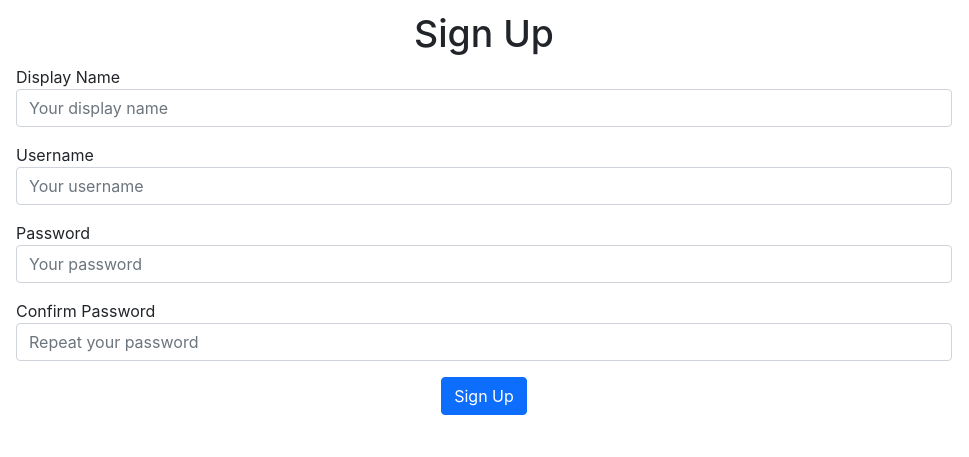
User Sign Up Page › Interactions › displays validation error for displayName when error is received for the field
Type "my-display-name" into the field with placeholder "Your display name" at (484, 108), box [16,89,952,127]
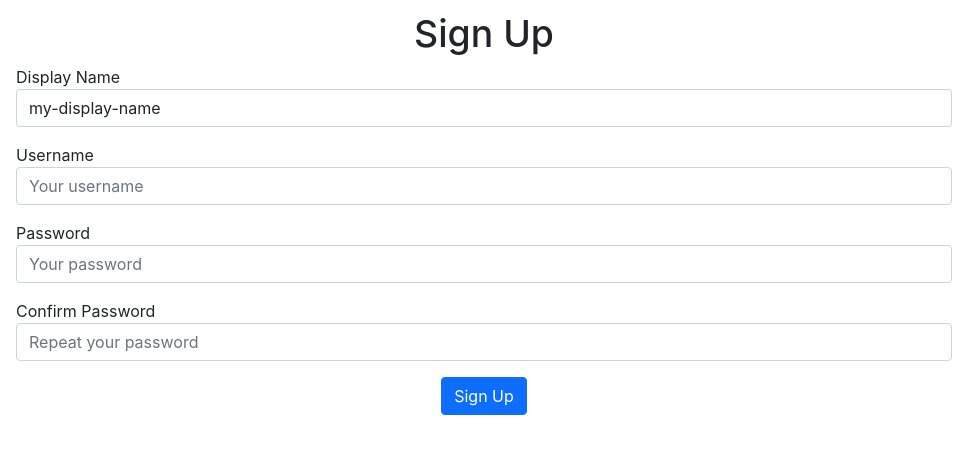
Type "my-username" into the field with placeholder "Your username" at (484, 186), box [16,167,952,205]
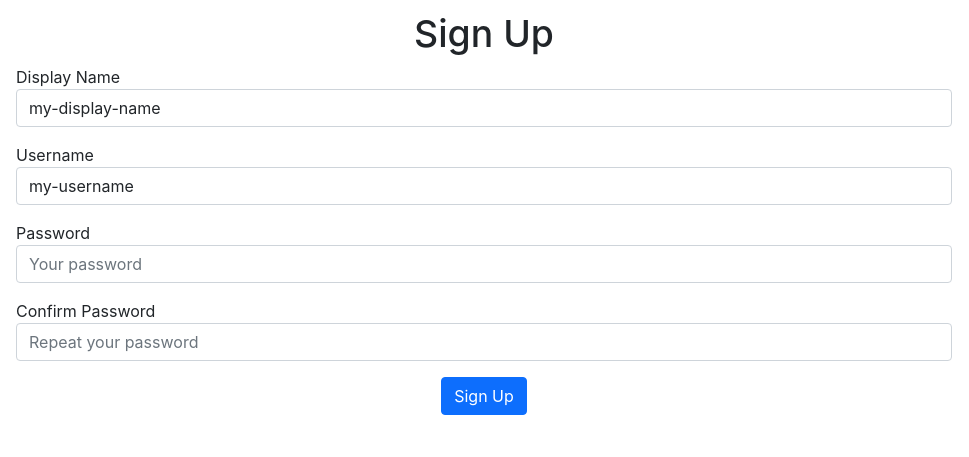
Type "P4ssword" into the password field with placeholder "Your password" at (484, 264), box [16,245,952,283]
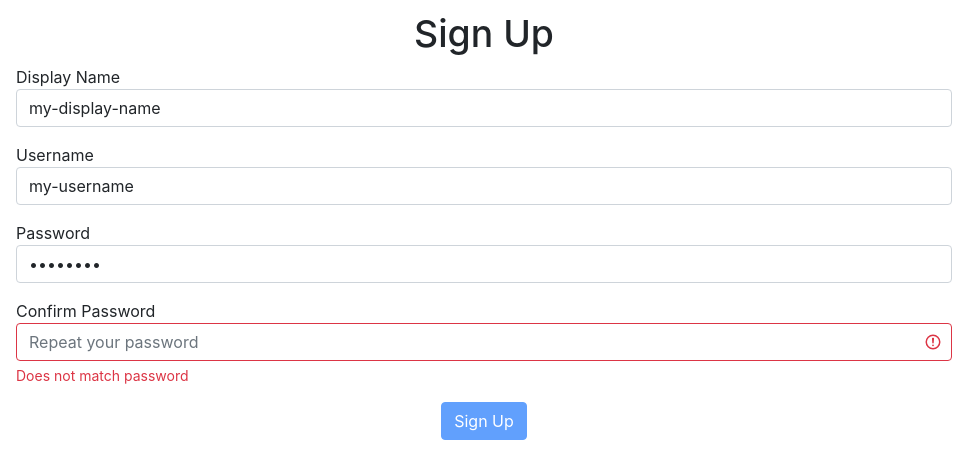
Type "P4ssword" into the password field with placeholder "Repeat your password" at (484, 342), box [16,323,952,361]
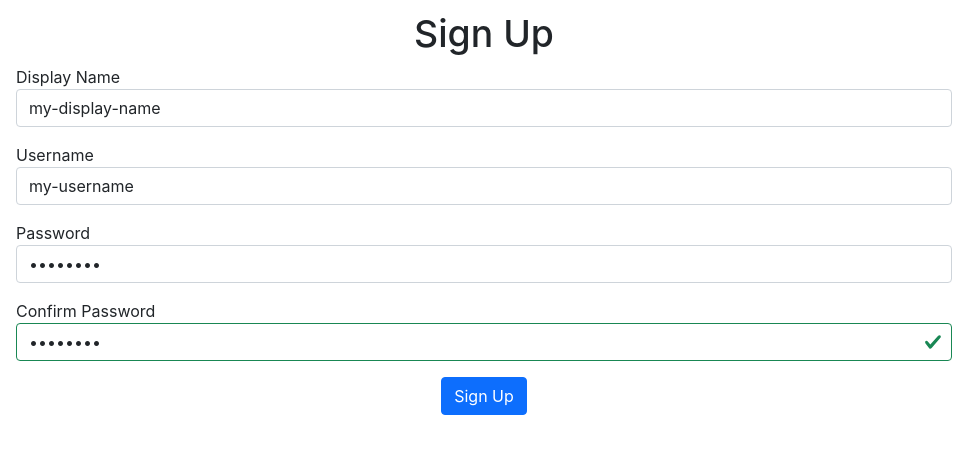
Click the button "Sign Up" at (484, 396), box [441,377,527,415]
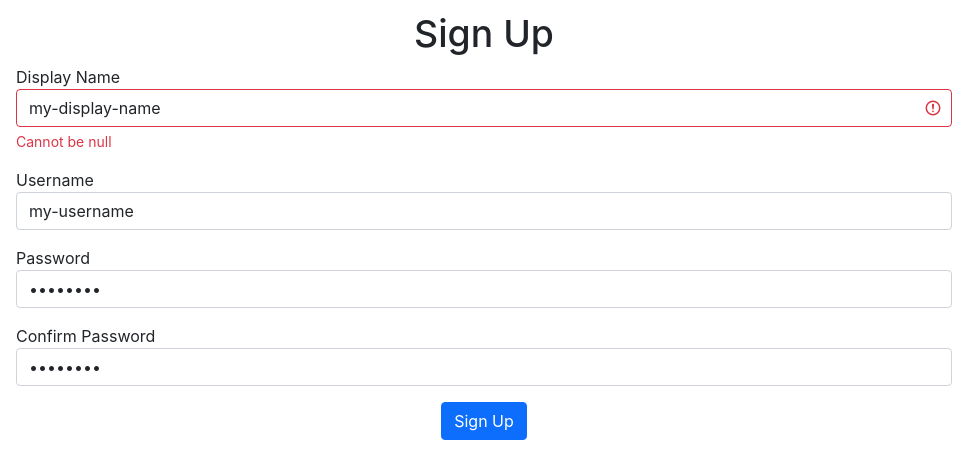
Result: the text "Cannot be null" is shown at [16,133,112,150]
